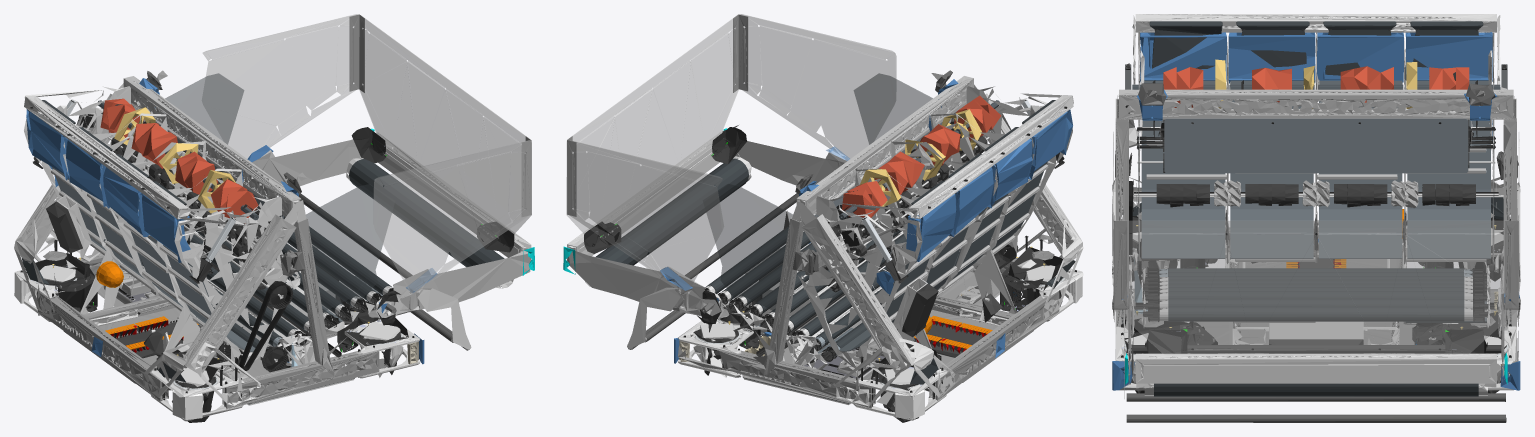
The model's file is robot_clover.glb.
3 views of the same model, side by side, from view 1: azimuth 30°, elevation 25°; view 2: azimuth 150°, elevation 25°; view 3: azimuth 270°, elevation 25° (orthographic). The views are drawn at different scales.
Visible parts, largest first — view 1: clear_50, body_40, body_22, body_9, clear_48, body_33, body_7, body_12, body_28, body_34, body_41, body_15 (+11 smaller); view 2: clear_50, body_40, body_9, body_22, clear_48, body_33, body_7, body_12, body_28, body_41, body_34, body_15 (+10 smaller); view 3: clear_50, body_9, body_15, body_40, body_19, body_12, body_33, body_7, body_14, body_22, body_8, body_34 (+10 smaller).
Part boxes in pixels (x1,y1,x2,y2): clear_50: [202, 14, 531, 295]; body_40: [14, 83, 531, 421]; body_22: [38, 14, 531, 408]; body_9: [22, 100, 504, 404]; clear_48: [158, 73, 394, 317]; body_33: [16, 76, 301, 373]; body_7: [20, 81, 514, 422]; body_12: [26, 78, 424, 364]; body_28: [252, 139, 530, 310]; body_34: [100, 98, 258, 223]; body_41: [57, 105, 512, 366]; body_15: [52, 167, 382, 352]; clear_50: [566, 14, 896, 293]; body_40: [567, 84, 1083, 420]; body_9: [596, 100, 1075, 403]; body_22: [567, 14, 1059, 408]; clear_48: [703, 73, 953, 311]; body_33: [796, 76, 1081, 372]; body_7: [584, 100, 1076, 422]; body_12: [660, 79, 1072, 363]; body_28: [567, 141, 856, 316]; body_41: [627, 105, 1039, 369]; body_34: [842, 95, 1001, 217]; body_15: [752, 162, 1047, 355]; clear_50: [1113, 132, 1519, 354]; body_9: [1121, 21, 1510, 396]; body_15: [1141, 80, 1490, 322]; body_40: [1112, 14, 1520, 395]; body_19: [1164, 118, 1468, 173]; body_12: [1112, 32, 1520, 390]; body_33: [1115, 89, 1516, 214]; body_7: [1121, 28, 1511, 393]; body_14: [1126, 83, 1509, 422]; body_22: [1114, 215, 1518, 422]; body_8: [1156, 119, 1475, 353]; body_34: [1163, 66, 1469, 107].
Size of the model in its own units: 0.9225 by 0.5529 by 0.7765.
